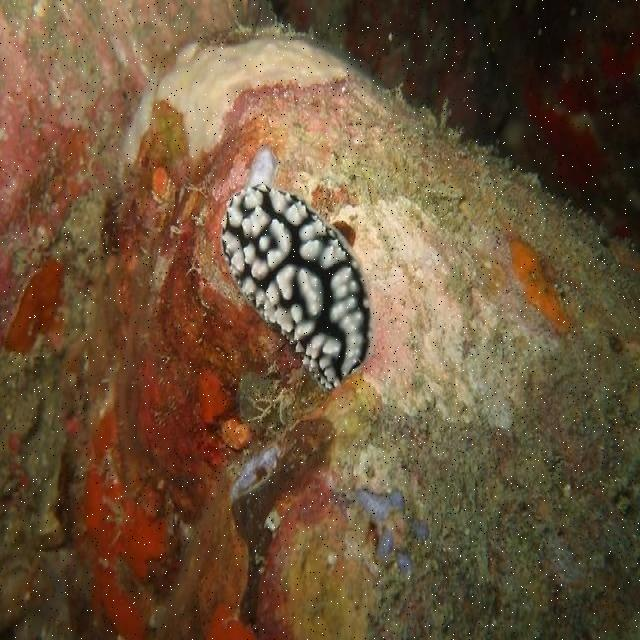reefs: (221, 184, 371, 392)
sea-floor: (0, 0, 638, 638)
